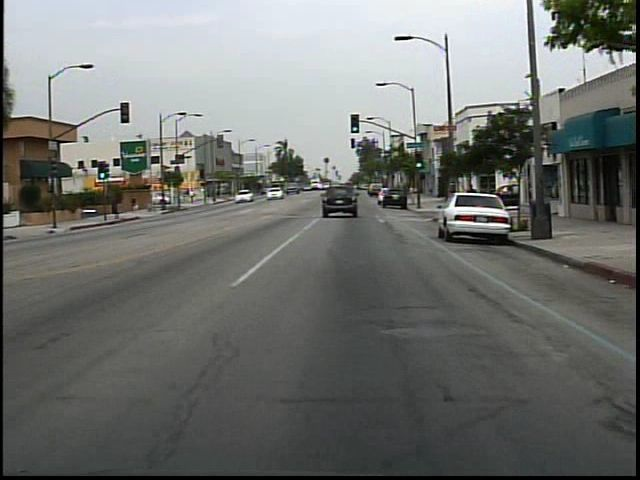person: (462, 178, 482, 217), (127, 192, 146, 220), (189, 188, 198, 206)
